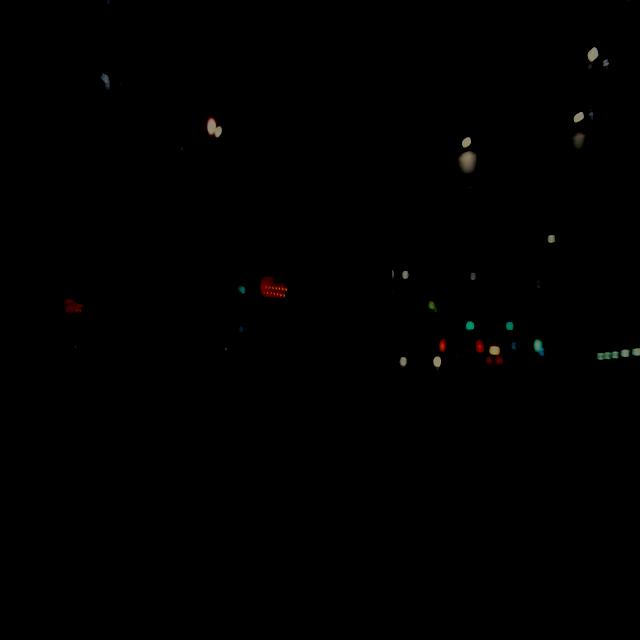Motorbike: (240, 213, 392, 567)
